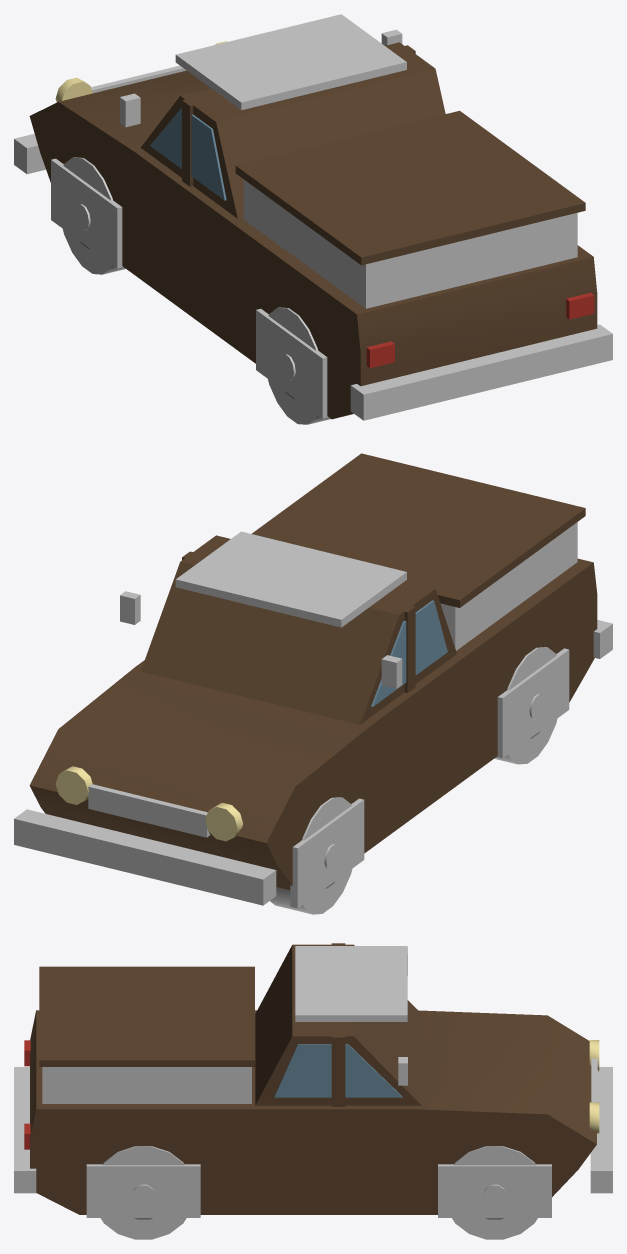
Rendered from kodiak_pickup.obj.
The picture shows the model from 3 angles, top to bottom: view 1: azimuth 30°, elevation 25°; view 2: azimuth 150°, elevation 25°; view 3: azimuth 270°, elevation 25°; orthographic projection. The views are drawn at different scales.
Visible parts, largest first — view 1: model; view 2: model; view 3: model.
Part boxes in pixels (box(x1,y1,x2,y2)): model: box(14, 14, 612, 424); model: box(14, 453, 612, 914); model: box(14, 943, 612, 1239).
Size of the model in its own units: 2.22 by 1.87 by 4.86.
